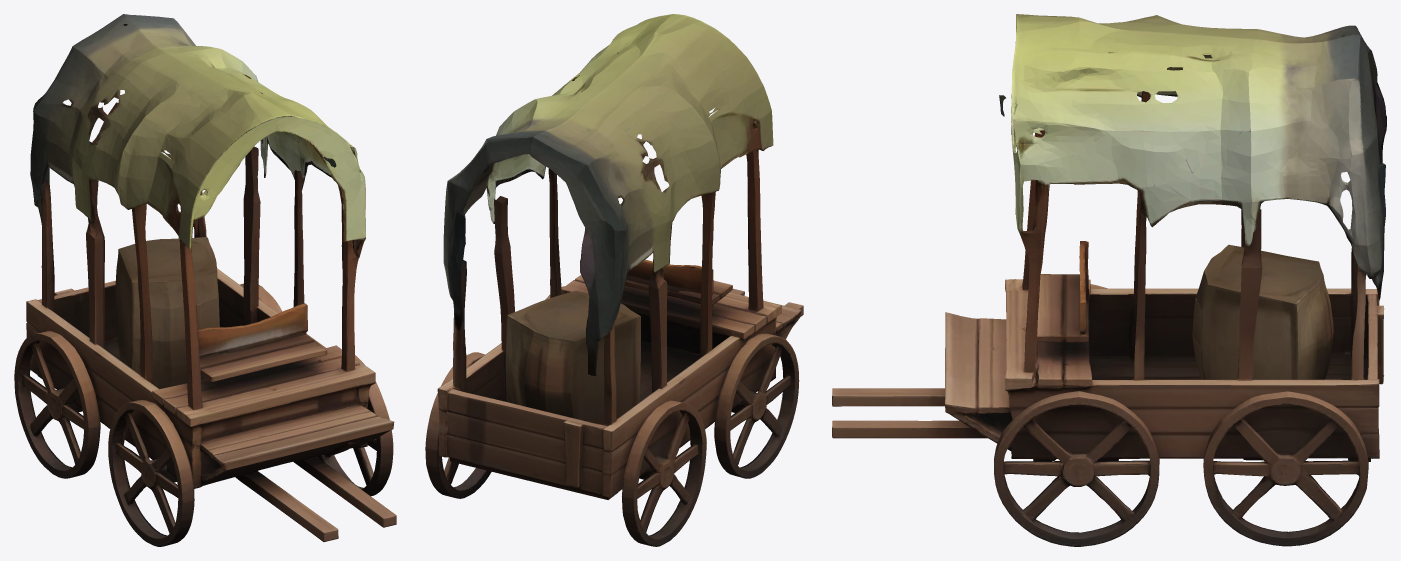
The model's file is nano_t05.glb.
3 renders of one model, left to right at view 1: azimuth 30°, elevation 25°; view 2: azimuth 150°, elevation 25°; view 3: azimuth 270°, elevation 25°, orthographic. The views are drawn at different scales.
Visible parts, largest first — view 1: geometry_0; view 2: geometry_0; view 3: geometry_0.
Boxes of the visible parts, left/top/right/bottom form: geometry_0: left=14, top=14, right=396, bottom=546; geometry_0: left=425, top=14, right=803, bottom=546; geometry_0: left=832, top=14, right=1386, bottom=546.
Size of the model in its own units: 0.9662 by 1.84 by 1.97.
1 material, 1 textured.
